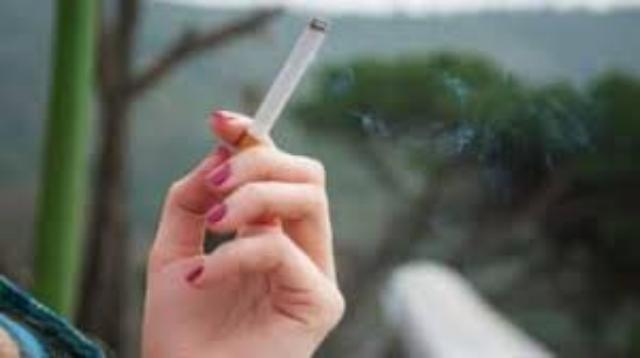Cigarette: (228, 16, 328, 170)
